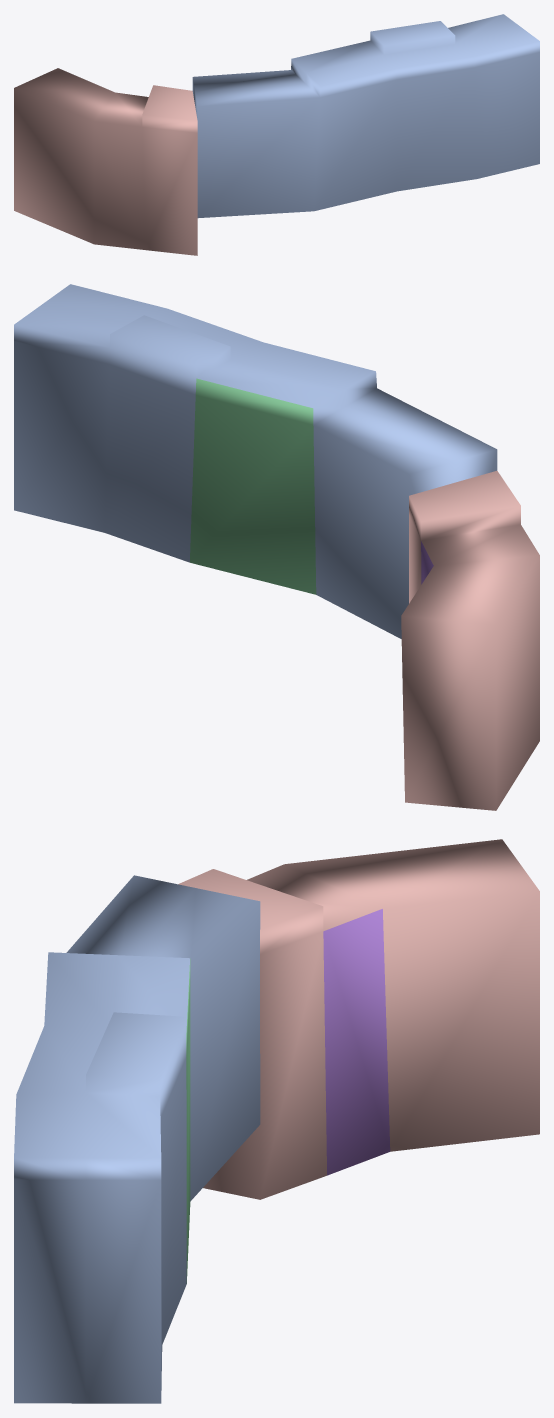
Rendered from Kyle_B_3_1.fbx.
3 renders of one model, top to bottom at view 1: azimuth 30°, elevation 25°; view 2: azimuth 150°, elevation 25°; view 3: azimuth 270°, elevation 25°, orthographic. The views are drawn at different scales.
Visible parts, largest first — view 1: Kyle_B_3_1; view 2: Kyle_B_3_1; view 3: Kyle_B_3_1.
Part boxes in pixels (x1=…): Kyle_B_3_1: x1=14, y1=14, x2=539, y2=255; Kyle_B_3_1: x1=14, y1=284, x2=539, y2=810; Kyle_B_3_1: x1=14, y1=839, x2=539, y2=1403.
Size of the model in its own units: 5963 by 2387 by 3361.
